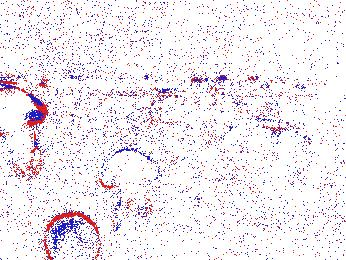flame jellyfish: (98, 148, 161, 233), (1, 85, 47, 182), (43, 212, 101, 260)
